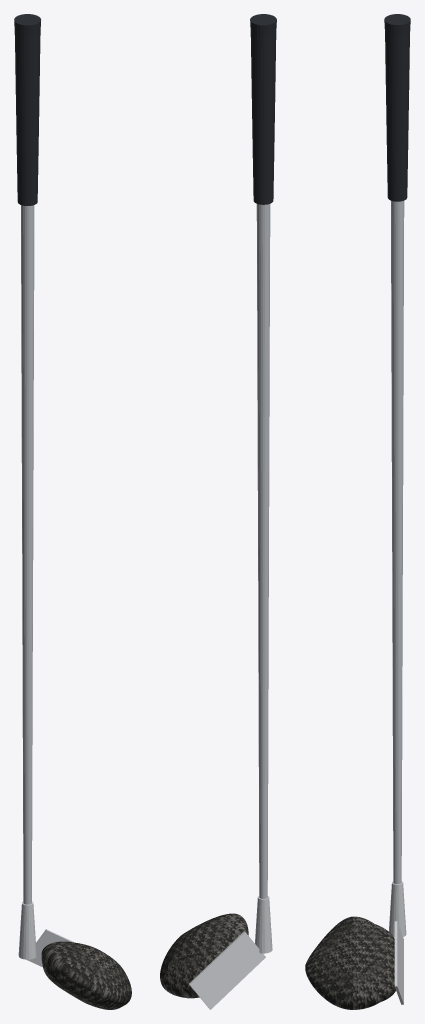
The model's file is golf_club.glb.
3 renders of one model, left to right at view 1: azimuth 30°, elevation 25°; view 2: azimuth 210°, elevation 25°; view 3: azimuth 270°, elevation 25°, orthographic. The views are drawn at different scales.
Parts seen in each view (by area): view 1: club_shaft, club_grip, club_head_crown, club_head_titanium; view 2: club_shaft, club_grip, club_head_crown, club_head_titanium; view 3: club_shaft, club_head_crown, club_grip, club_head_titanium.
Boxes of the visible parts, x1,y1,x2,y2 form: club_shaft: [21, 205, 34, 904]; club_grip: [14, 14, 40, 205]; club_head_crown: [41, 941, 131, 1009]; club_head_titanium: [18, 901, 74, 967]; club_shaft: [256, 204, 270, 898]; club_grip: [250, 14, 276, 204]; club_head_crown: [160, 913, 248, 998]; club_head_titanium: [189, 896, 272, 1009]; club_shaft: [391, 200, 404, 884]; club_head_crown: [305, 916, 395, 1009]; club_grip: [384, 14, 410, 201]; club_head_titanium: [389, 881, 406, 1004].
Size of the model in its own units: 0.1118 by 1.17 by 0.1166.
4 materials, 4 textured.
